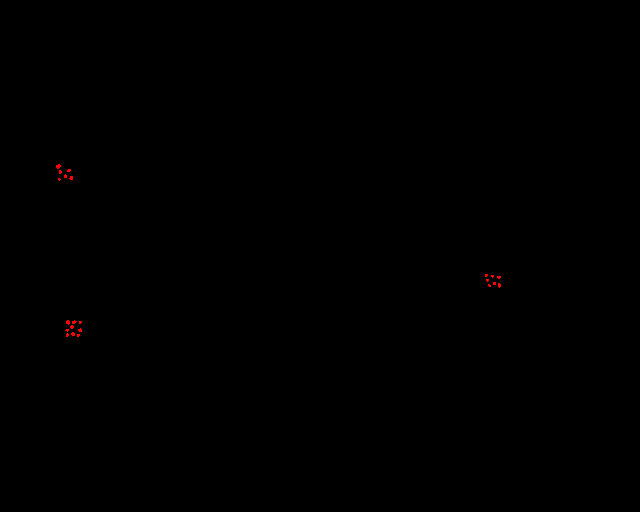Target: (56, 164, 61, 169), (66, 320, 70, 325), (72, 320, 77, 324), (69, 176, 73, 180), (70, 325, 74, 329), (78, 328, 82, 332), (71, 332, 75, 336), (498, 283, 501, 288), (67, 169, 71, 172), (59, 170, 62, 174), (64, 174, 67, 178), (497, 276, 501, 279), (65, 329, 69, 332), (66, 333, 69, 337), (58, 178, 61, 181), (485, 274, 488, 277), (491, 275, 494, 278), (486, 279, 489, 282), (493, 282, 496, 285), (488, 284, 491, 287), (79, 321, 82, 324), (77, 334, 80, 337)
